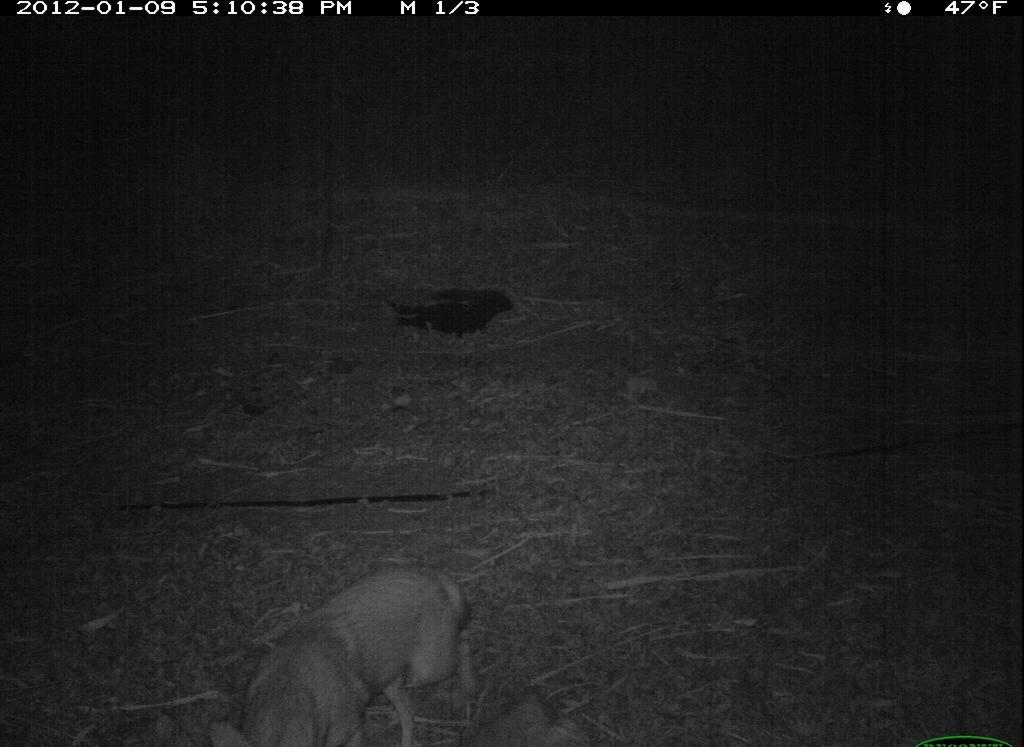coyote: (205, 556, 497, 743)
